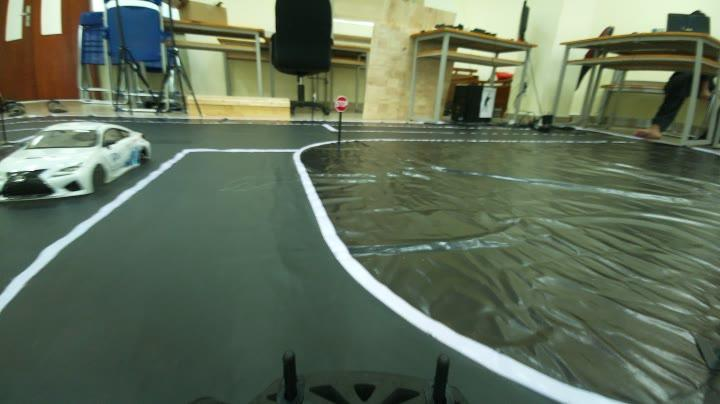car: (4, 122, 150, 210)
stop: (330, 92, 354, 115)
